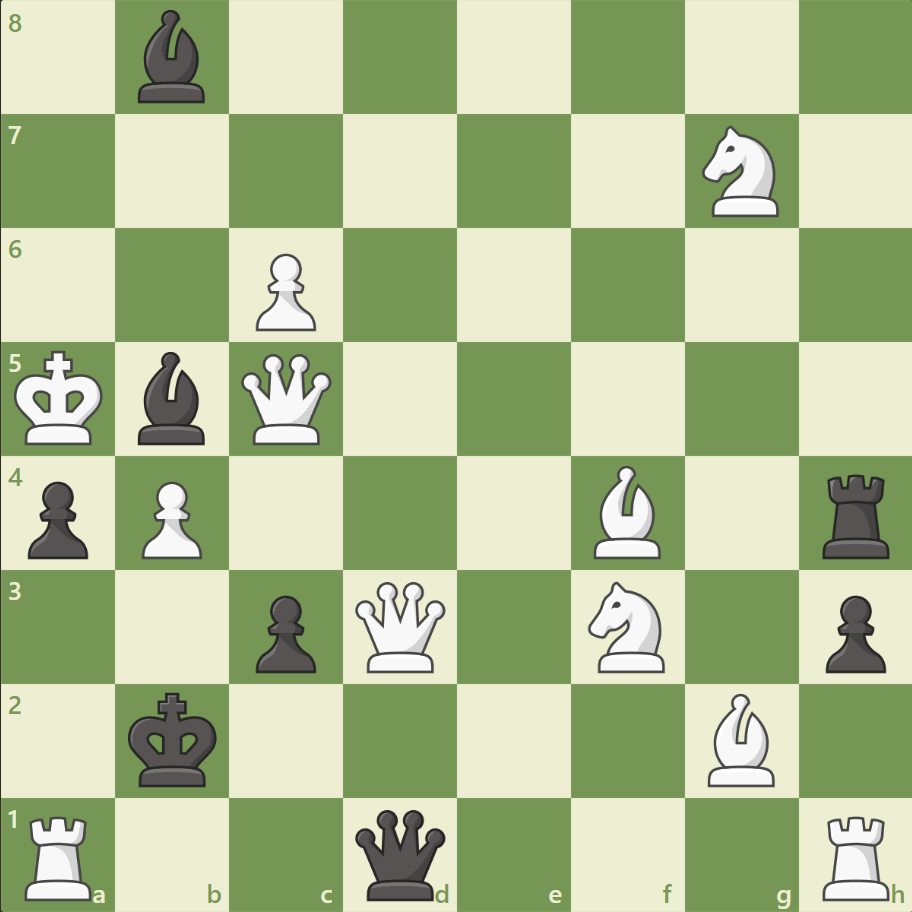B: (585, 460, 669, 563), (698, 687, 782, 790)
K: (11, 344, 111, 452)
N: (692, 121, 789, 223), (579, 575, 676, 677)
P: (247, 246, 322, 337), (133, 473, 208, 564)
Q: (237, 349, 336, 449), (351, 576, 450, 676)
R: (19, 806, 102, 904), (814, 806, 897, 904)
b: (131, 6, 215, 109), (131, 347, 215, 449)
k: (124, 685, 224, 793)
p: (20, 473, 95, 564), (247, 586, 322, 677), (815, 586, 889, 677)
q: (351, 804, 450, 903)
r: (814, 466, 897, 563)
